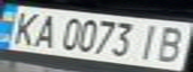0: (54, 15, 84, 52), (75, 16, 100, 54)
3: (112, 19, 139, 60)
7: (93, 17, 118, 56)
A: (30, 11, 63, 50)
B: (151, 24, 193, 63)
I: (133, 21, 166, 61)
K: (3, 8, 45, 46)
